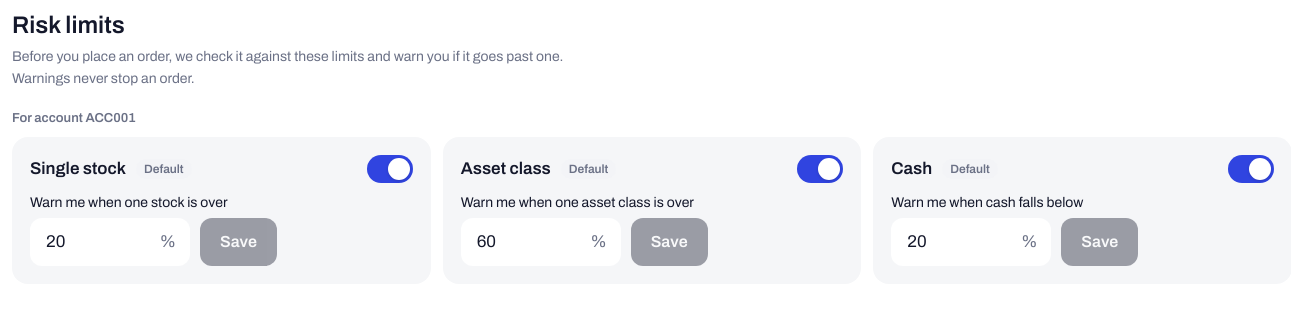
Scenario: RiskLimitsComponent › shows a save error on that rule only and keeps what the user typed
The width and height of the screenshot is (1291, 309).
Replace the text in the field labelled "Warn me when one stock is over" with "30": (99, 242) [44,231,154,252]
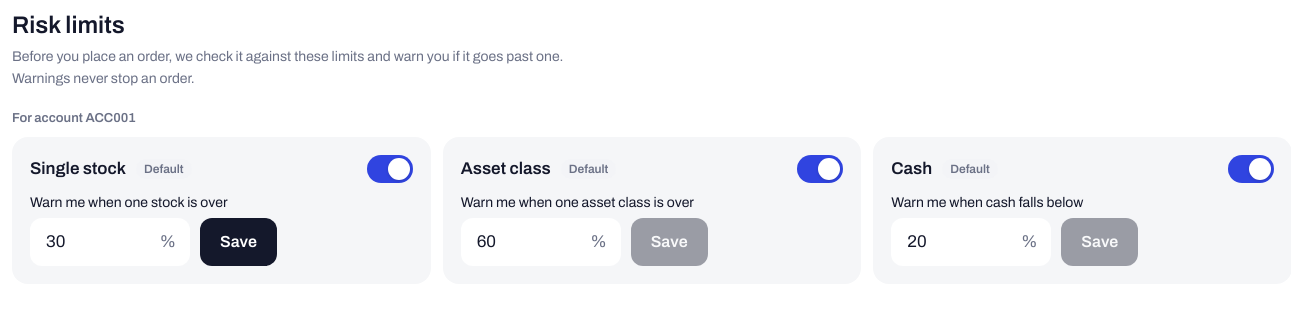
Click the submit button: (238, 242) [200,218,277,266]
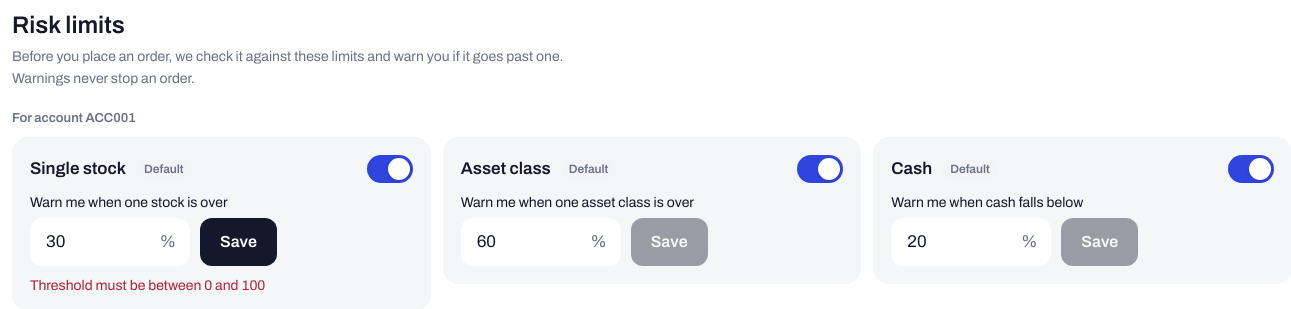
Expected: the message "Threshold must be between 0 and 100" is shown, [30,278,265,293]
